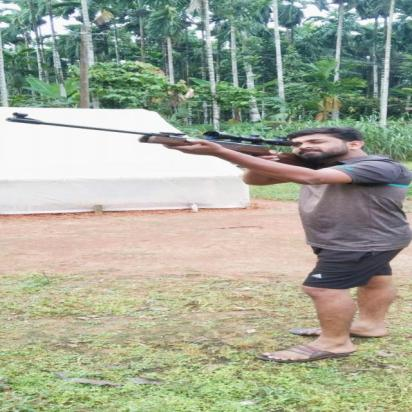Gun: (4, 112, 319, 173)
